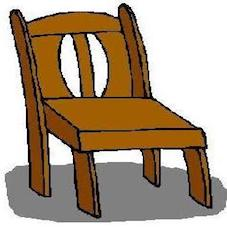chair: (4, 5, 220, 225)
